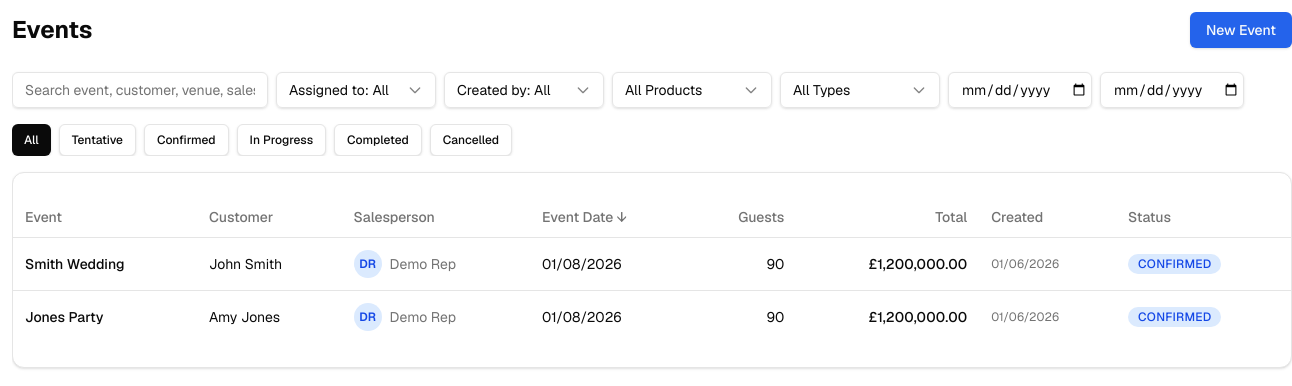
Events list › filters by the search box
The image size is (1292, 386).
Type "jones" into the field with placeholder "Search event, customer, venue, salesperson..." at (140, 90), box x1=12 y1=72 x2=268 y2=108
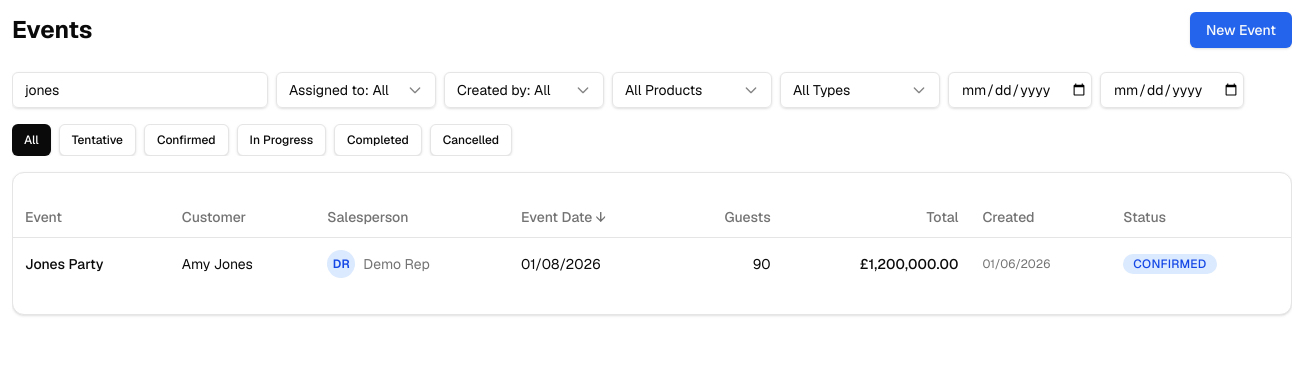
Expected: the text "Jones Party" is shown, x1=13 y1=237 x2=170 y2=290
Expected: the text "Smith Wedding" is gone
